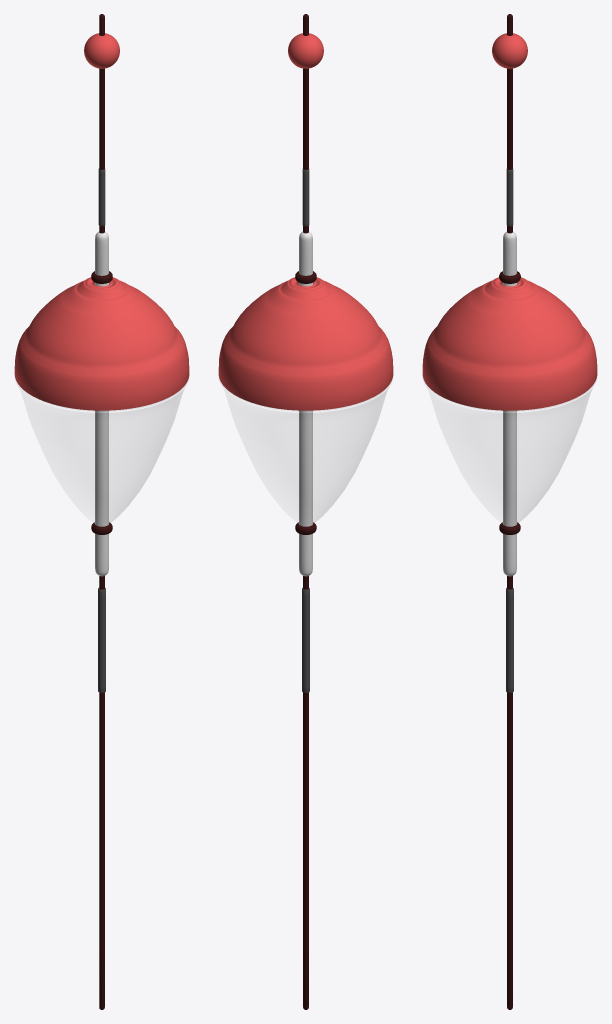
File: Bobber.fbx
The picture shows the model from 3 angles, left to right: view 1: azimuth 30°, elevation 25°; view 2: azimuth 150°, elevation 25°; view 3: azimuth 270°, elevation 25°; orthographic projection.
Visible parts, largest first — view 1: b, b.001, c, 4, ?????, 3, 2; view 2: b, b.001, c, 4, ?????, 3, 2; view 3: b, b.001, c, 4, ?????, 3, 2.
Boxes of the visible parts, x1,y1,x2,y2 form: b: (14,277,189,410); b.001: (14,283,189,525); c: (95,231,108,576); 4: (99,14,104,1009); ?????: (84,33,119,68); 3: (98,588,105,692); 2: (98,168,105,226); b: (218,277,393,410); b.001: (218,283,393,525); c: (299,231,312,576); 4: (303,14,308,1009); ?????: (288,33,323,68); 3: (302,588,309,692); 2: (302,169,309,226); b: (422,277,597,410); b.001: (422,283,597,525); c: (503,231,516,576); 4: (507,14,512,1009); ?????: (492,33,527,68); 3: (506,588,513,692); 2: (506,169,513,226).
Size of the model in its own units: 18.64 by 117 by 18.64.
